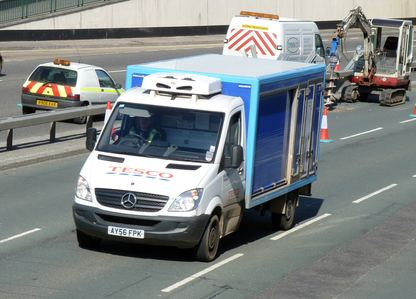ambulance: (221, 13, 331, 66)
